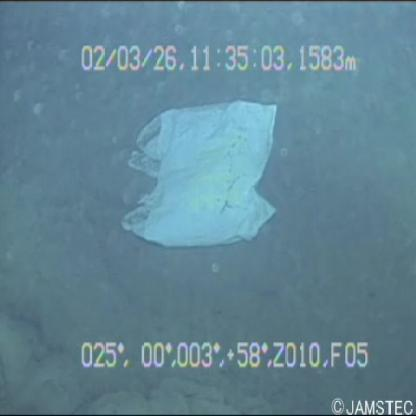Rác: (115, 100, 290, 270)
